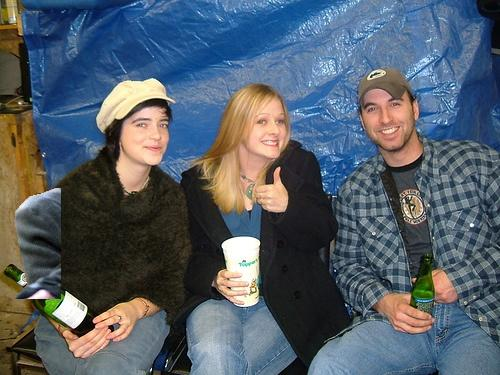tampered: (15, 189, 61, 299)
